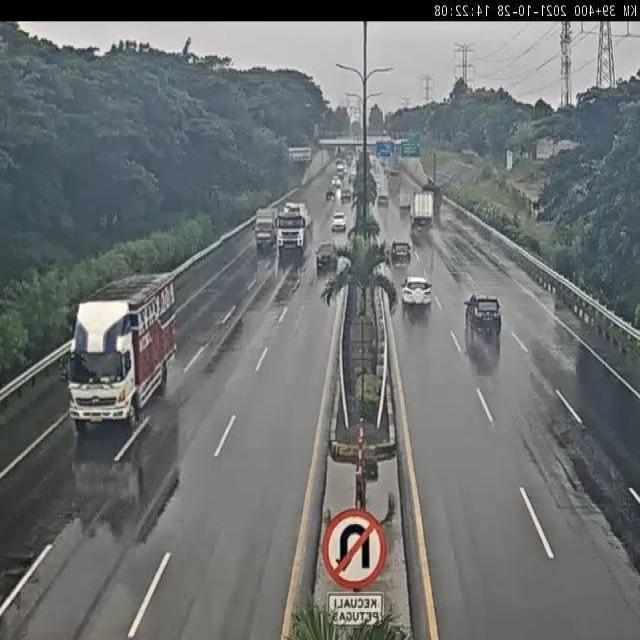Car: (463, 293, 503, 338), (399, 276, 432, 308), (314, 243, 340, 270), (390, 238, 412, 266), (329, 211, 346, 231), (376, 194, 390, 210), (326, 186, 336, 202), (340, 189, 351, 203), (332, 175, 342, 188)
Truck: (64, 272, 176, 426), (275, 200, 314, 251), (254, 205, 277, 248), (412, 191, 434, 227), (421, 182, 442, 210), (388, 169, 402, 191), (398, 190, 410, 211)
